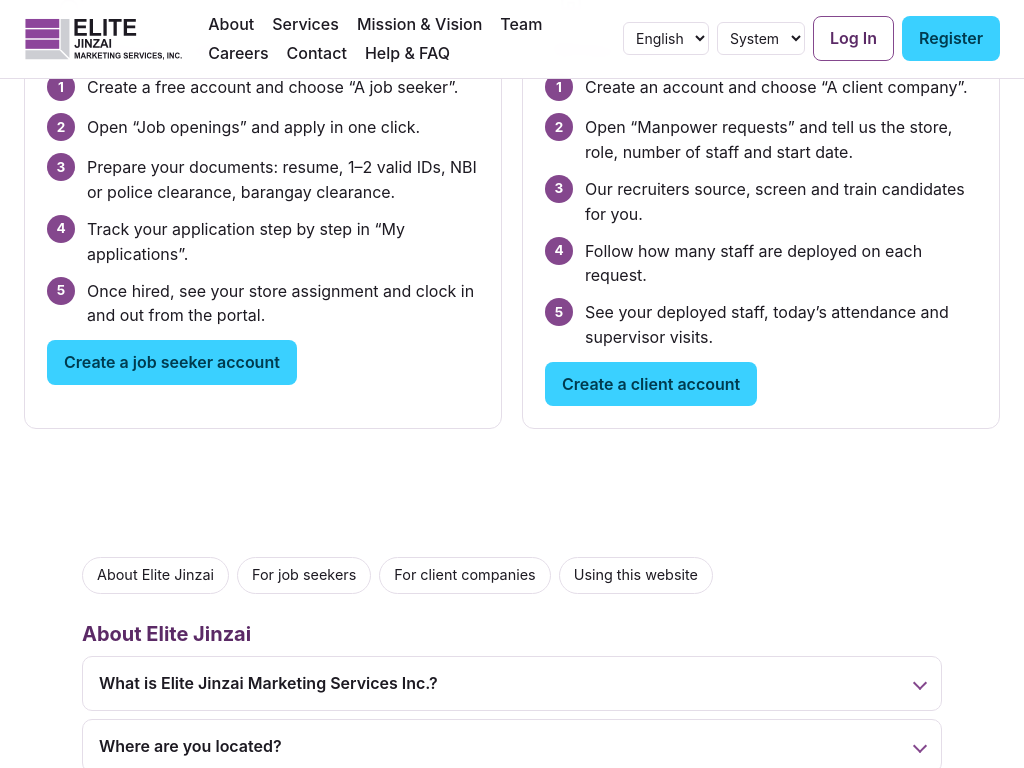
Test: "Create a client account" preselects the client account type
The width and height of the screenshot is (1024, 768).
(page scrolled)
Click the link "Create a client account" at x=651, y=384, box [545,362,757,406]
(page scrolled)
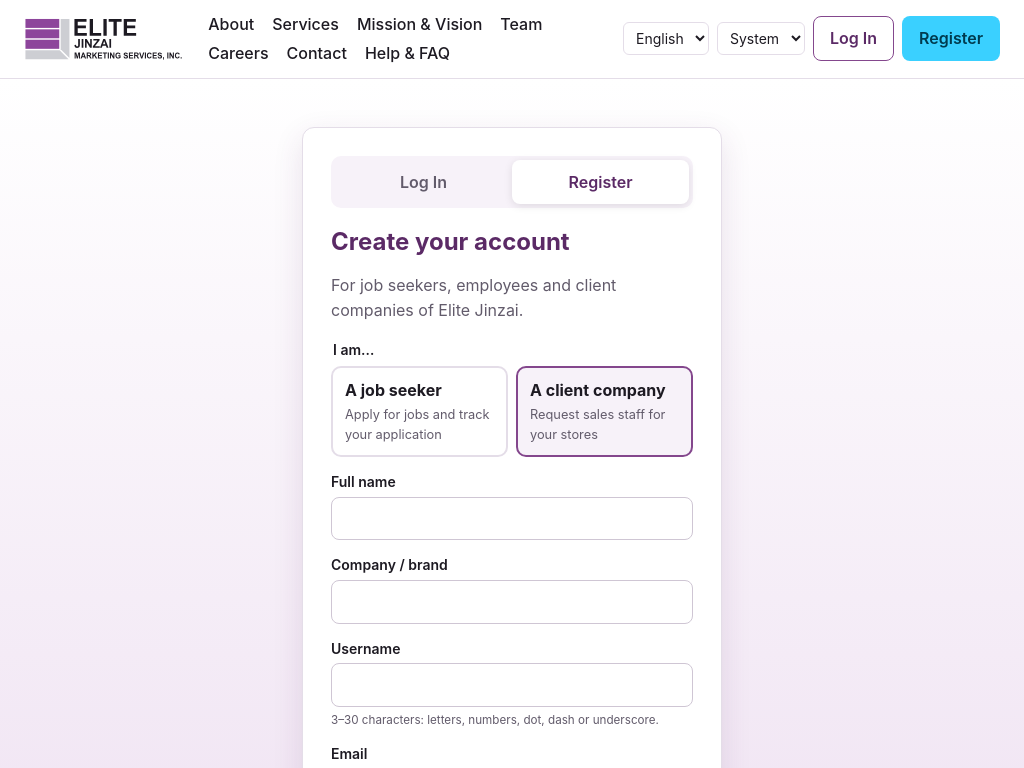
Now the radio button labelled "A client company Request sales staff for your stores" is checked, box [516,366,693,457]
